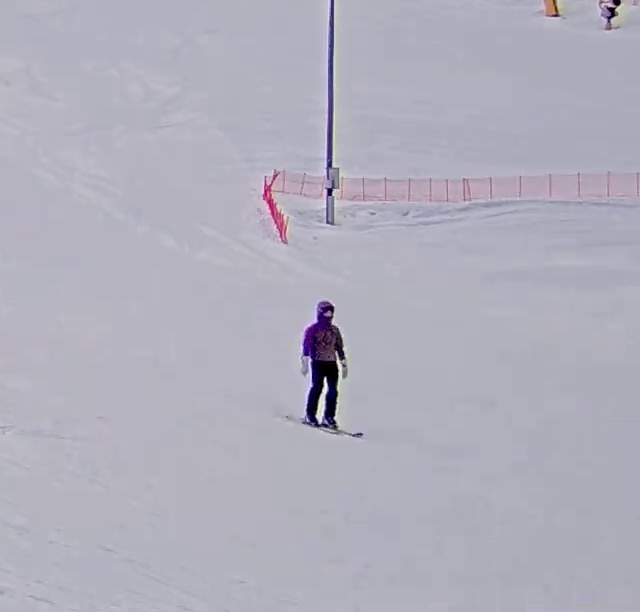skier: (285, 296, 366, 441)
